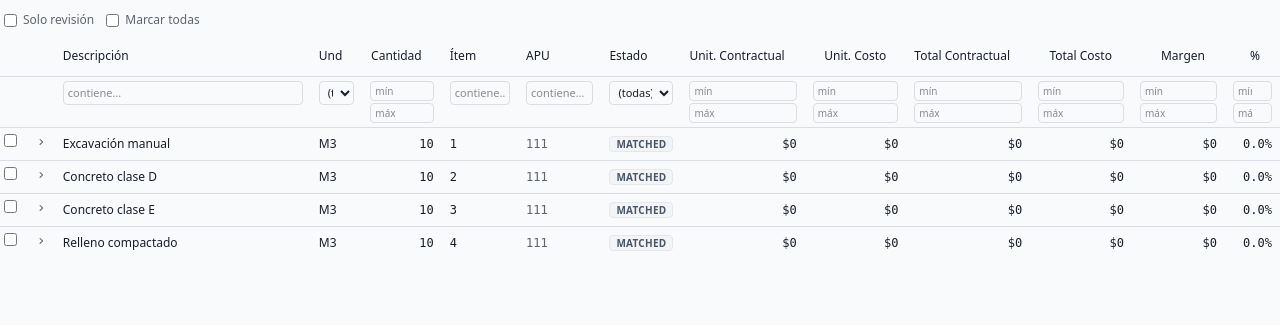
Scenario: Shift+click marca el rango visible
Click the checkbox named "Marcar ítem 1": coordinates (10, 140) x1=4 y1=134 x2=17 y2=146
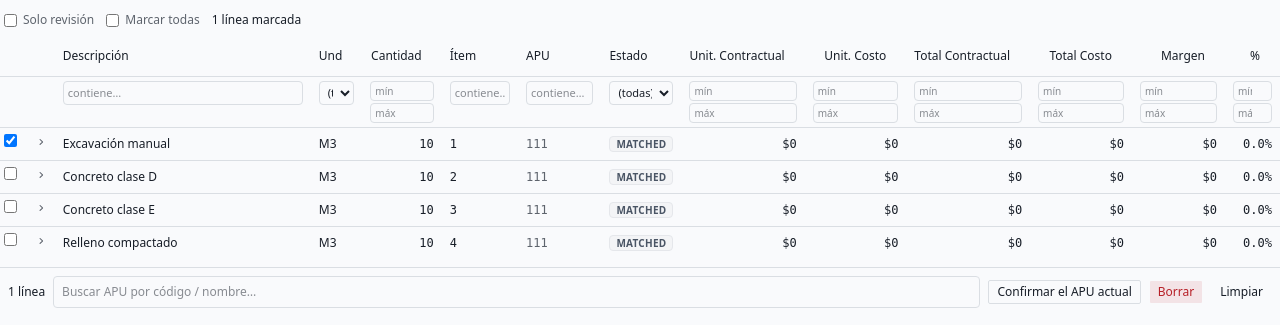
Click the checkbox named "Marcar ítem 4": coordinates (10, 239) x1=4 y1=232 x2=17 y2=246
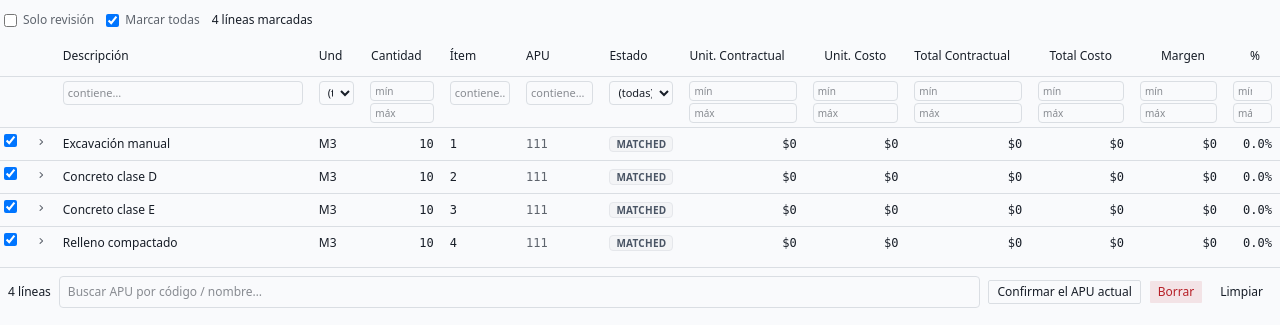
Now the text "4 líneas marcadas" is shown, box x1=212 y1=12 x2=313 y2=28
